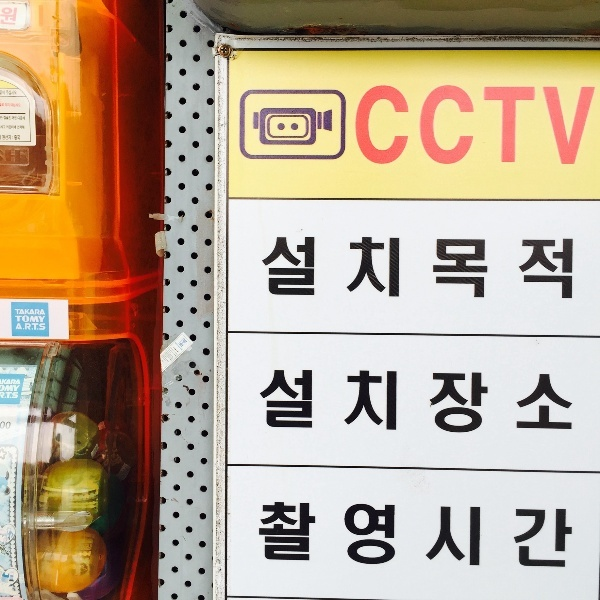text: (353, 86, 368, 167), (369, 86, 384, 167), (385, 86, 400, 167), (401, 86, 416, 167), (417, 86, 432, 167), (433, 86, 448, 167), (449, 86, 464, 167), (465, 86, 480, 167), (481, 86, 496, 167), (497, 86, 512, 167), (513, 86, 528, 167), (529, 86, 544, 167), (545, 86, 560, 167), (561, 86, 576, 167), (577, 86, 592, 167), (273, 501, 288, 571), (289, 501, 304, 571), (305, 501, 320, 571), (321, 501, 336, 571), (337, 501, 352, 571), (353, 501, 368, 571), (369, 501, 384, 571), (385, 501, 400, 571), (401, 501, 416, 571), (417, 501, 432, 571), (433, 501, 448, 571), (449, 501, 464, 571), (465, 501, 480, 571), (481, 501, 496, 571), (497, 501, 512, 571), (513, 501, 528, 571), (529, 501, 544, 571), (545, 501, 560, 571), (273, 369, 288, 438), (289, 369, 304, 438), (305, 369, 320, 438), (321, 369, 336, 438), (337, 369, 352, 438), (353, 369, 368, 438), (369, 369, 384, 438), (385, 369, 400, 438), (401, 369, 416, 438), (417, 369, 432, 438), (433, 369, 448, 438), (449, 369, 464, 438), (465, 369, 480, 438), (481, 369, 496, 438), (497, 369, 512, 438), (513, 369, 528, 438), (529, 369, 544, 438), (545, 369, 560, 438), (258, 501, 272, 571), (273, 237, 288, 300), (289, 237, 304, 300), (305, 237, 320, 300), (321, 237, 336, 300), (337, 237, 352, 300), (353, 237, 368, 300), (369, 237, 384, 300), (385, 237, 400, 300), (401, 237, 416, 300), (417, 237, 432, 300), (433, 237, 448, 300), (449, 237, 464, 300), (465, 237, 480, 300), (481, 237, 496, 300), (497, 237, 512, 300), (513, 237, 528, 300), (529, 237, 544, 300), (545, 237, 560, 300), (259, 369, 272, 438), (561, 369, 574, 438), (561, 237, 575, 300), (561, 501, 573, 571), (261, 237, 272, 300), (1, 9, 16, 29), (593, 86, 596, 167), (1, 385, 16, 392), (1, 392, 16, 399), (1, 549, 16, 556), (1, 422, 16, 429), (17, 309, 32, 315), (17, 316, 32, 322), (17, 324, 32, 330), (33, 309, 46, 315), (33, 324, 46, 330), (1, 90, 16, 95), (1, 380, 16, 385), (1, 545, 16, 550), (17, 125, 32, 130), (33, 316, 45, 322), (2, 135, 16, 140), (1, 103, 16, 107), (1, 116, 16, 120), (1, 125, 16, 129), (7, 125, 16, 129), (17, 116, 25, 120), (17, 385, 20, 392), (17, 9, 18, 29), (17, 135, 21, 140), (17, 103, 21, 107), (17, 380, 20, 385), (17, 392, 19, 399), (15, 309, 16, 315), (15, 316, 16, 322), (17, 90, 18, 95)
